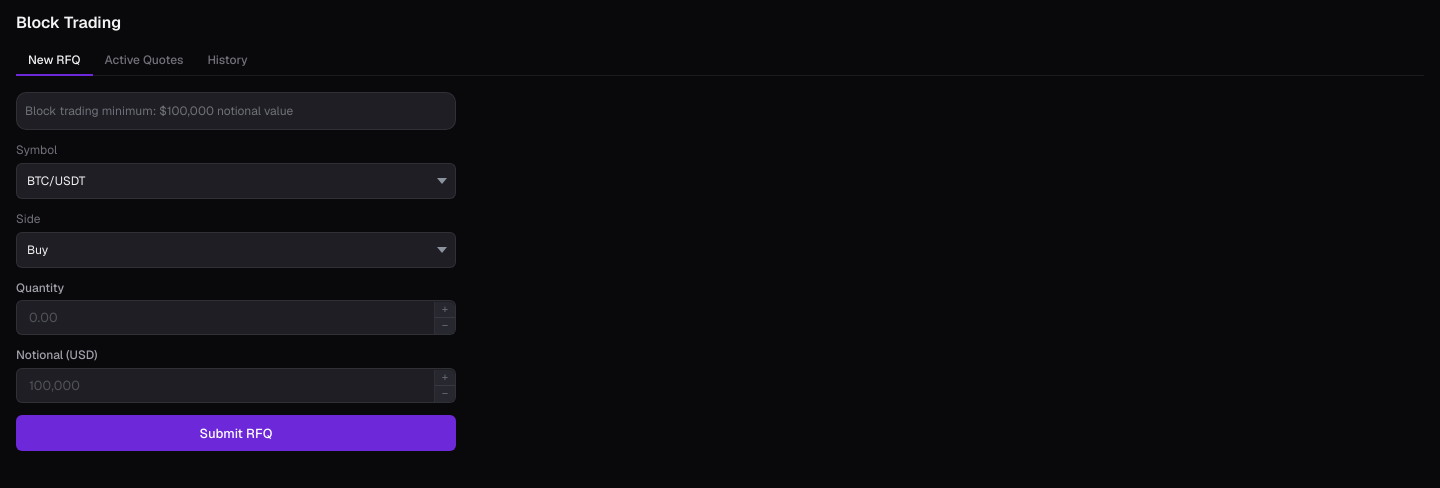
Test: BlockTradePage › RFQ form enforces minimum $100K notional
The image size is (1440, 488).
// Fill in quantity and a notional below minimum
In the field labelled "Quantity": (226, 318) [17,301,434,334], type "1"
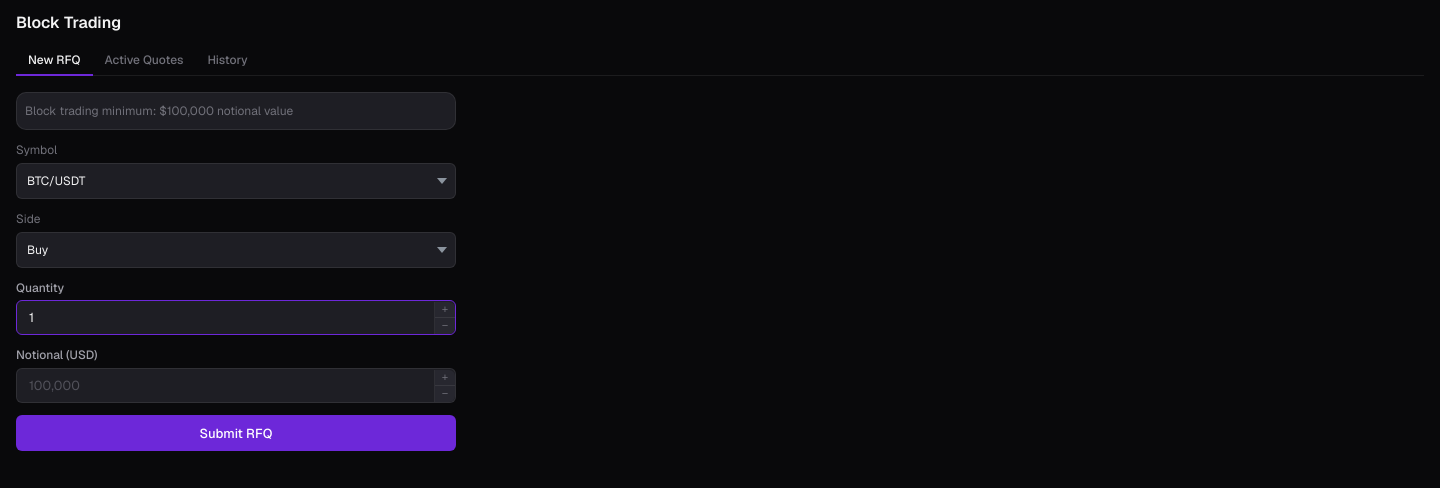
In the field labelled "Notional (USD)": (226, 386) [17,369,434,402], type "50000"
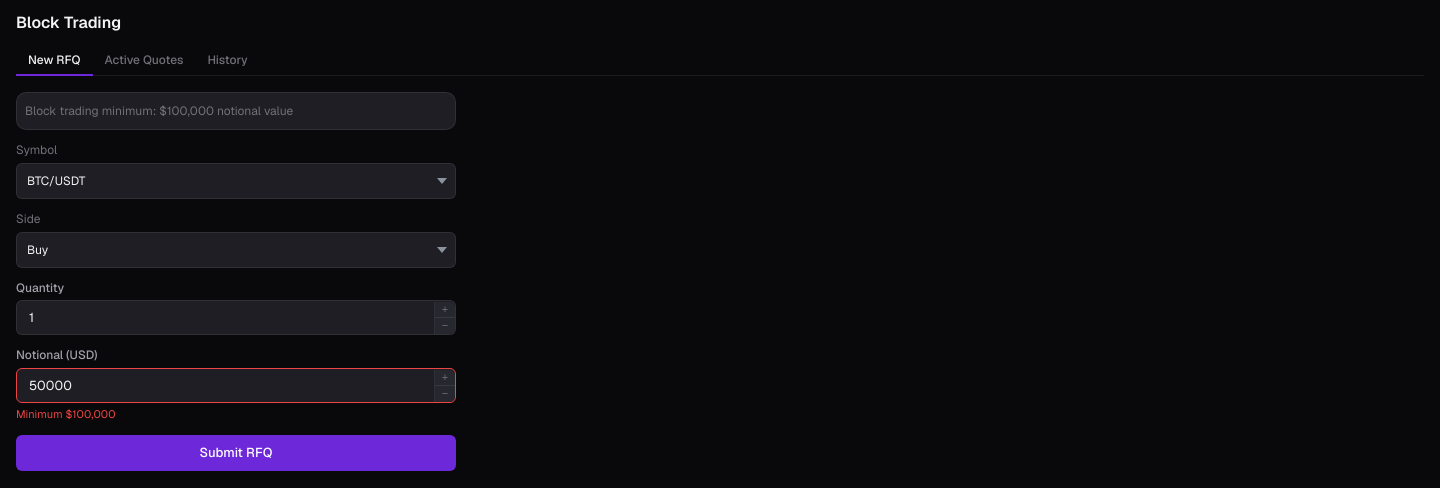
Check: the text "Minimum $100,000" is shown, box [16,407,116,421]
